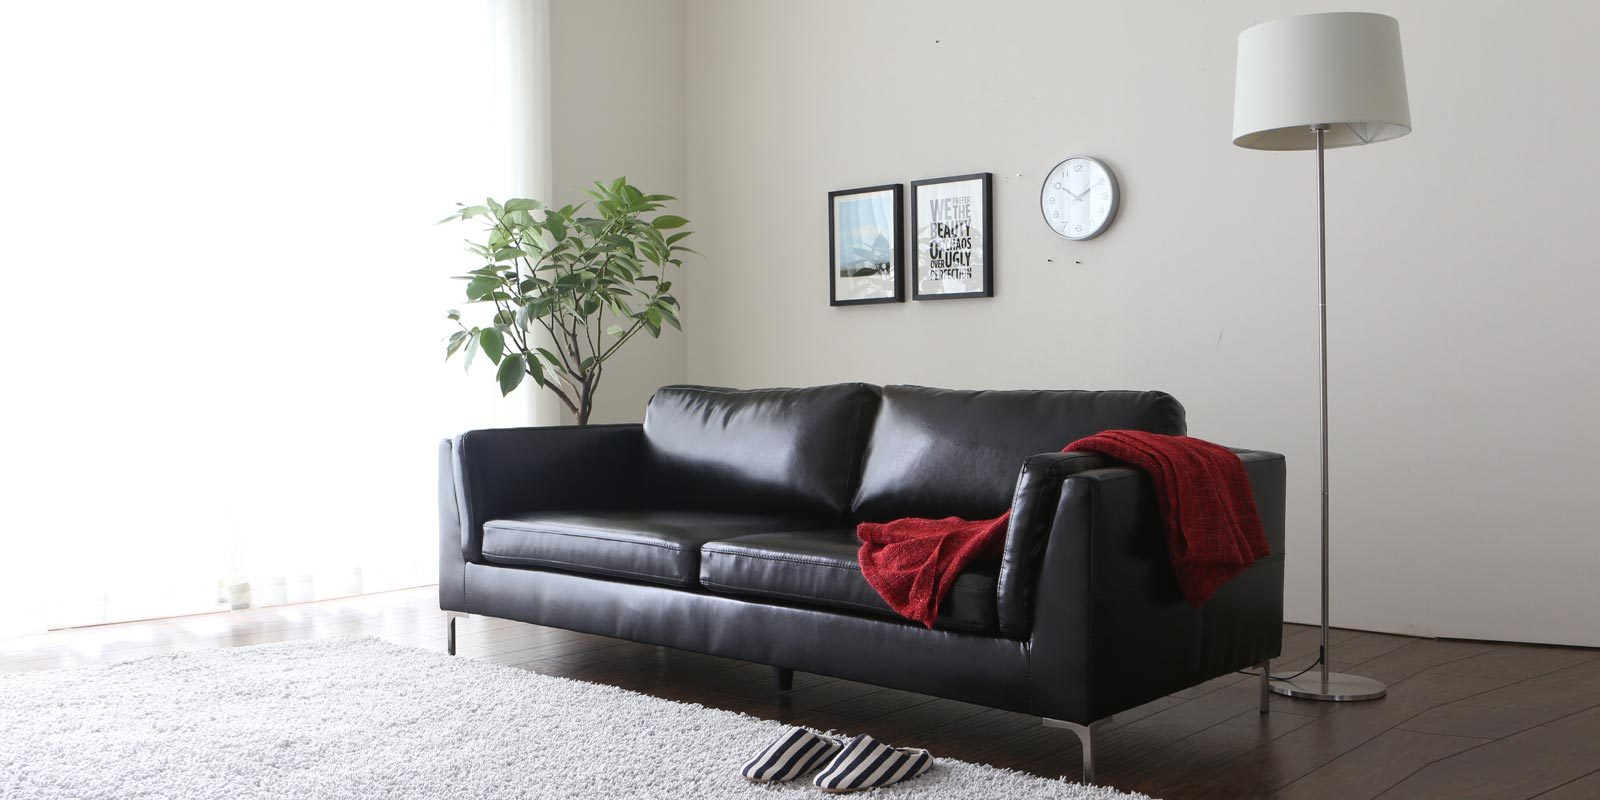Forma Three Seater Sofa in Black Colour by Zofa: (426, 372, 1341, 795)
